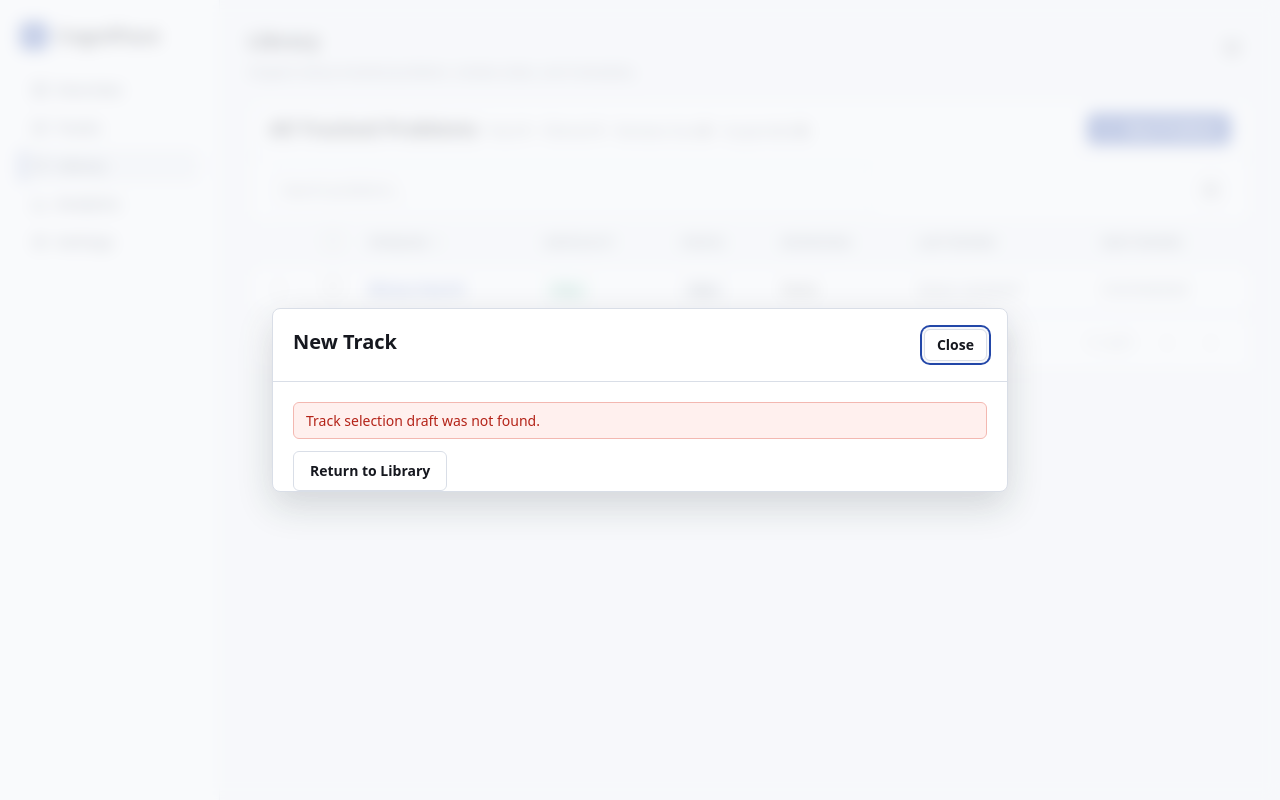
Scenario: dashboard routes › /library/tracks/new direct route handles a missing selection draft
Expected: the message reads "Track selection draft was not found.", x1=306 y1=411 x2=540 y2=430
Click the button "Return to Library".
click(370, 471)  # box x1=293 y1=451 x2=447 y2=491
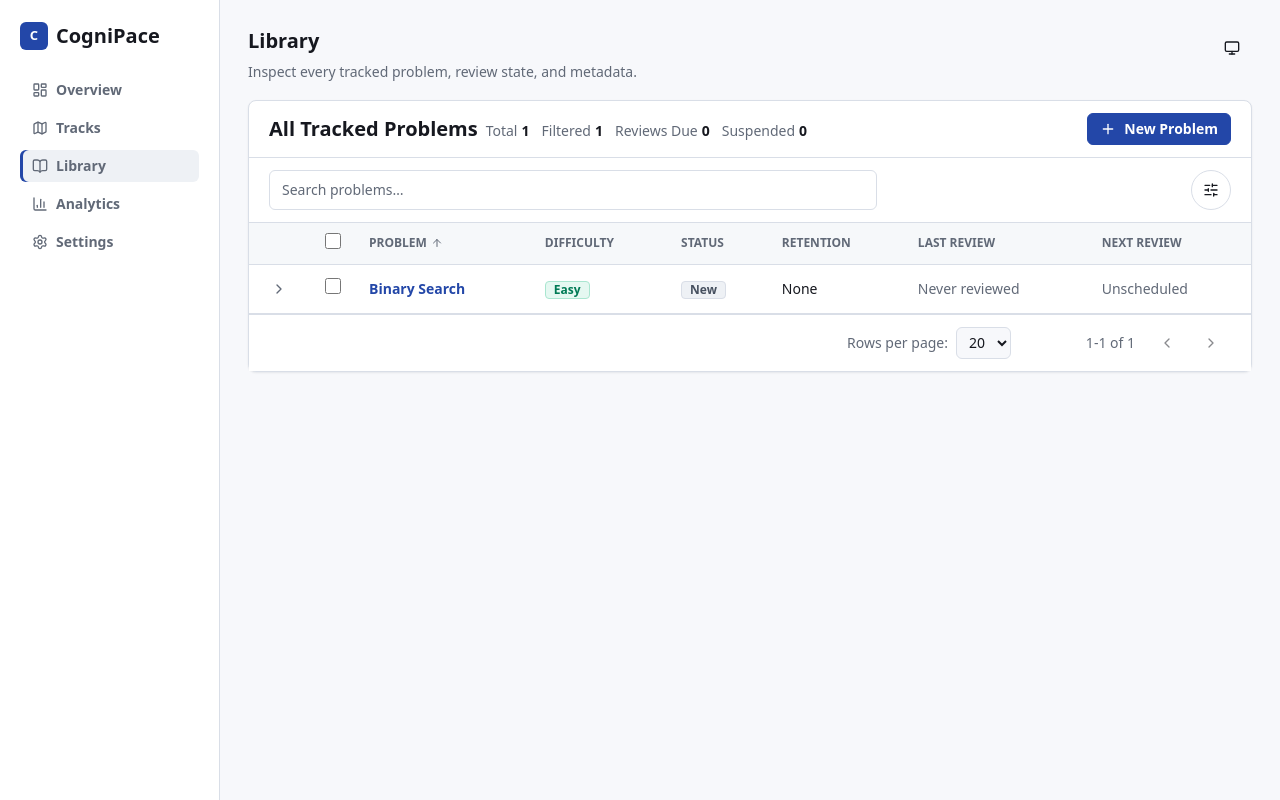
Result: the dialog is gone
